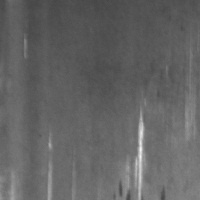scratches: (132, 106, 147, 199), (44, 130, 55, 199)
